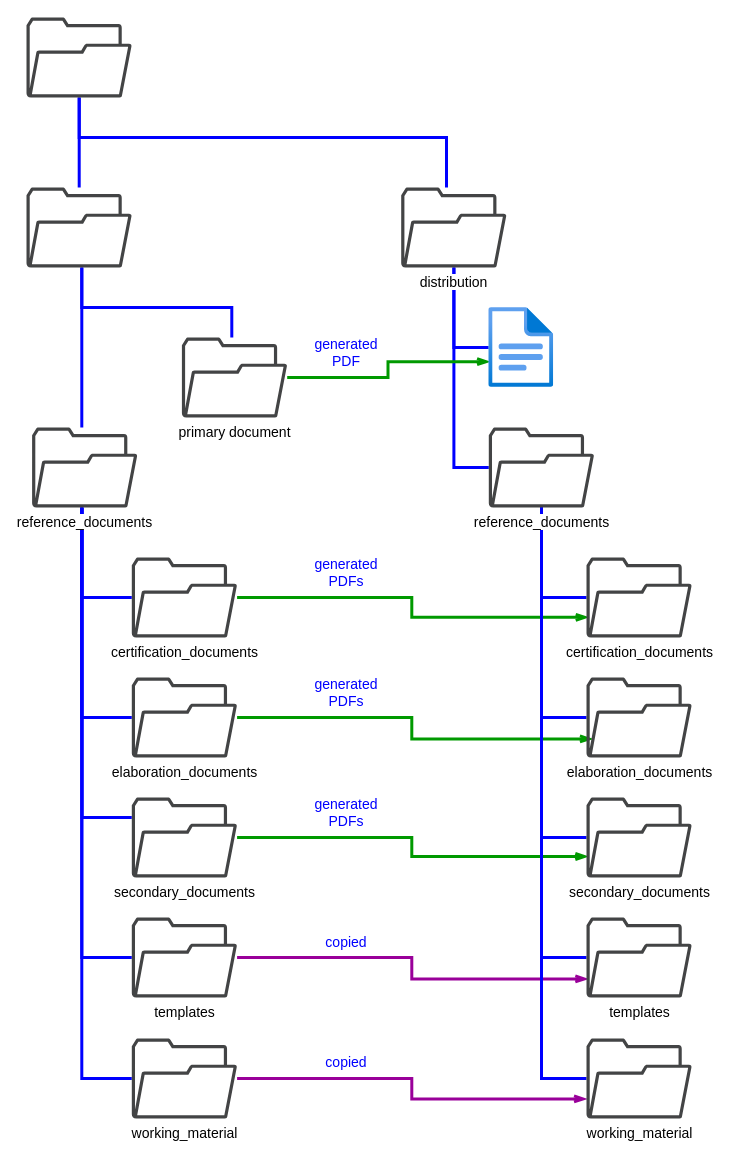
Some shapes in this 730 by 1159 pixel diagram are drawn without their labels. Each missing label, with the centre of its shape:
AVCDL: (78,57)
AVCDL.pdf: (520,347)
source: (78,227)
